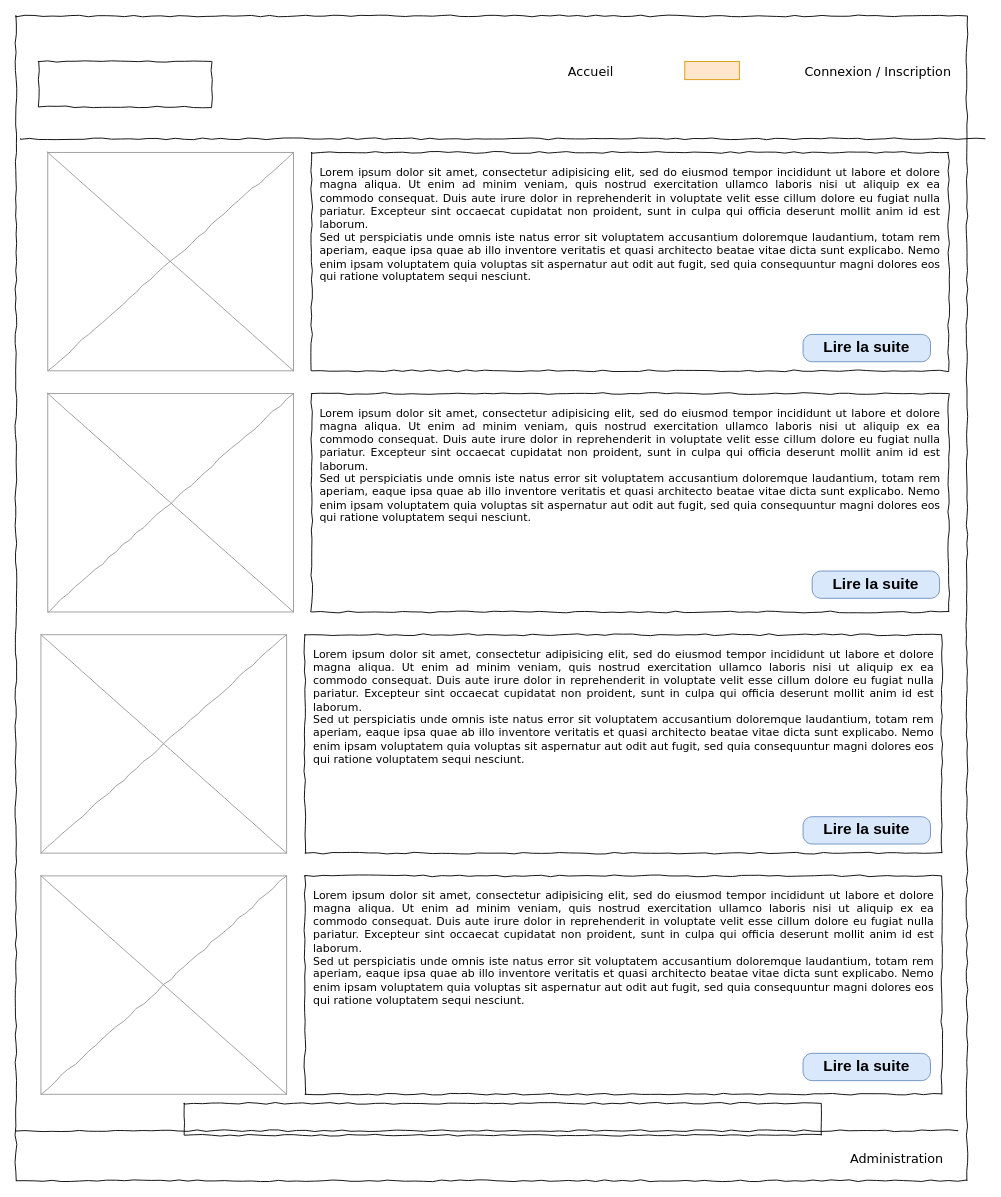
Some shapes in this 1001 by 1197 pixel diagram are drawn without their labels. The centre of each missing label's shape, as x and y in pixels:
"Blog" belongs at (x=711, y=70).
"LOGO" belongs at (x=125, y=84).
"page 1 - 2 -3 -4" belongs at (x=502, y=1118).
